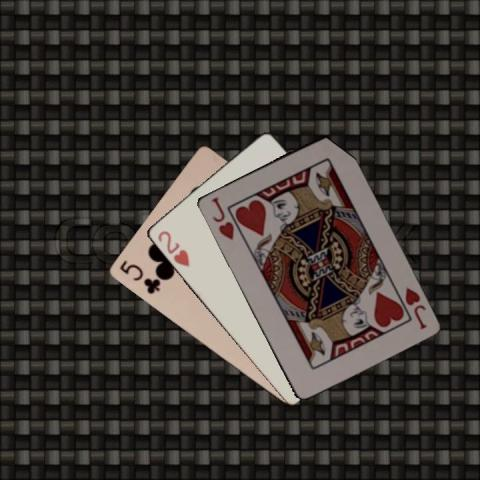2h: (154, 227, 191, 268)
5c: (116, 257, 161, 296)
Jh: (208, 194, 235, 241), (401, 284, 428, 330)
